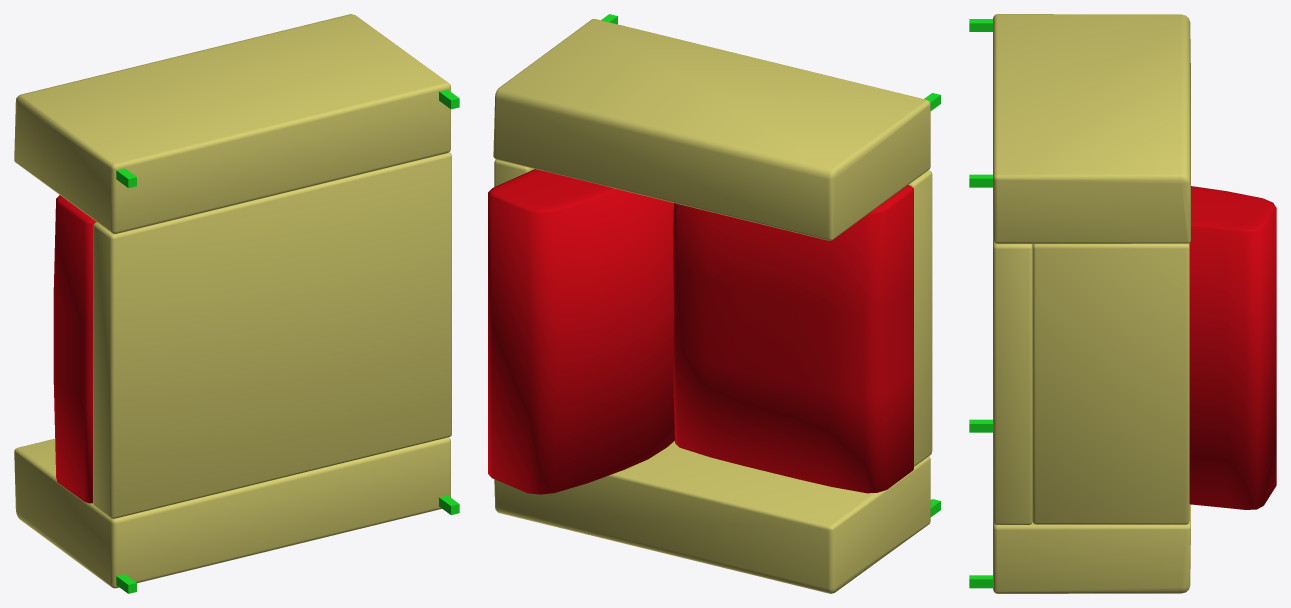
The model's file is chair_4.FBX.
3 views of the same model, side by side, from view 1: azimuth 30°, elevation 25°; view 2: azimuth 150°, elevation 25°; view 3: azimuth 270°, elevation 25° (orthographic).
Parts seen in each view (by area): view 1: legs; view 2: legs; view 3: legs.
Part boxes in pixels (bbox=[...]): legs: bbox=[14, 14, 459, 593]; legs: bbox=[488, 14, 940, 593]; legs: bbox=[969, 14, 1276, 593].
Bounding box in the file's own units: 100 × 118 × 78.12.
